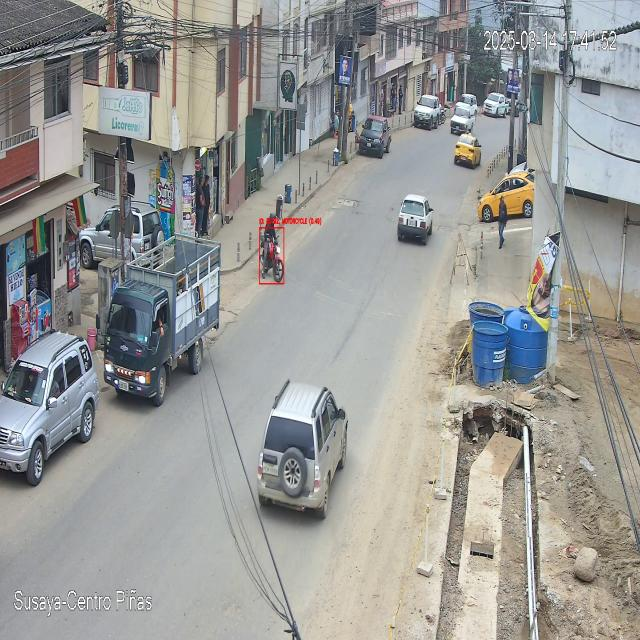SUV: (0, 333, 98, 486), (256, 381, 349, 515)
TRUCK: (104, 235, 221, 407)
